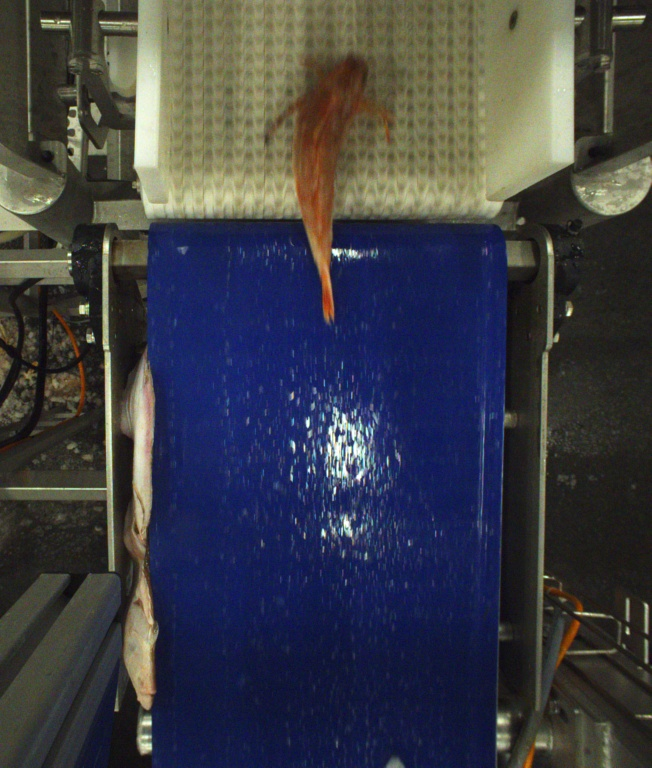GUU: (267, 58, 391, 322)
